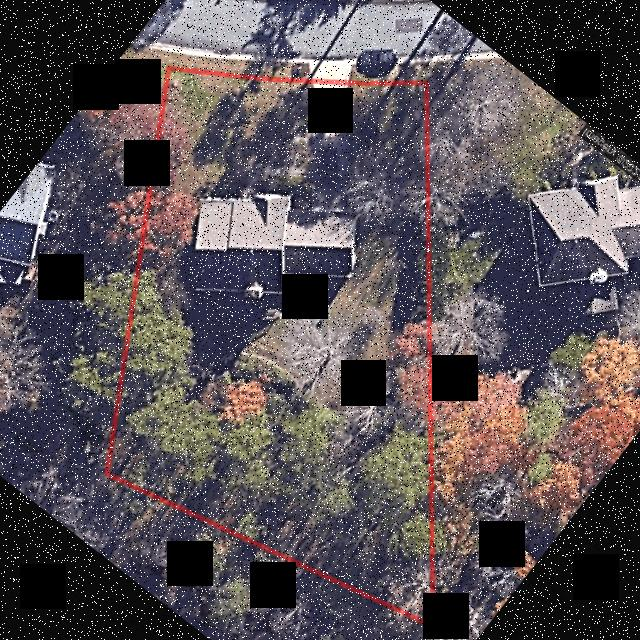Driveway: (311, 78, 349, 210)
Extra Driveway: (308, 58, 355, 79)
Extra Lawn: (169, 52, 309, 78), (349, 61, 429, 79)
House: (191, 191, 356, 298)
